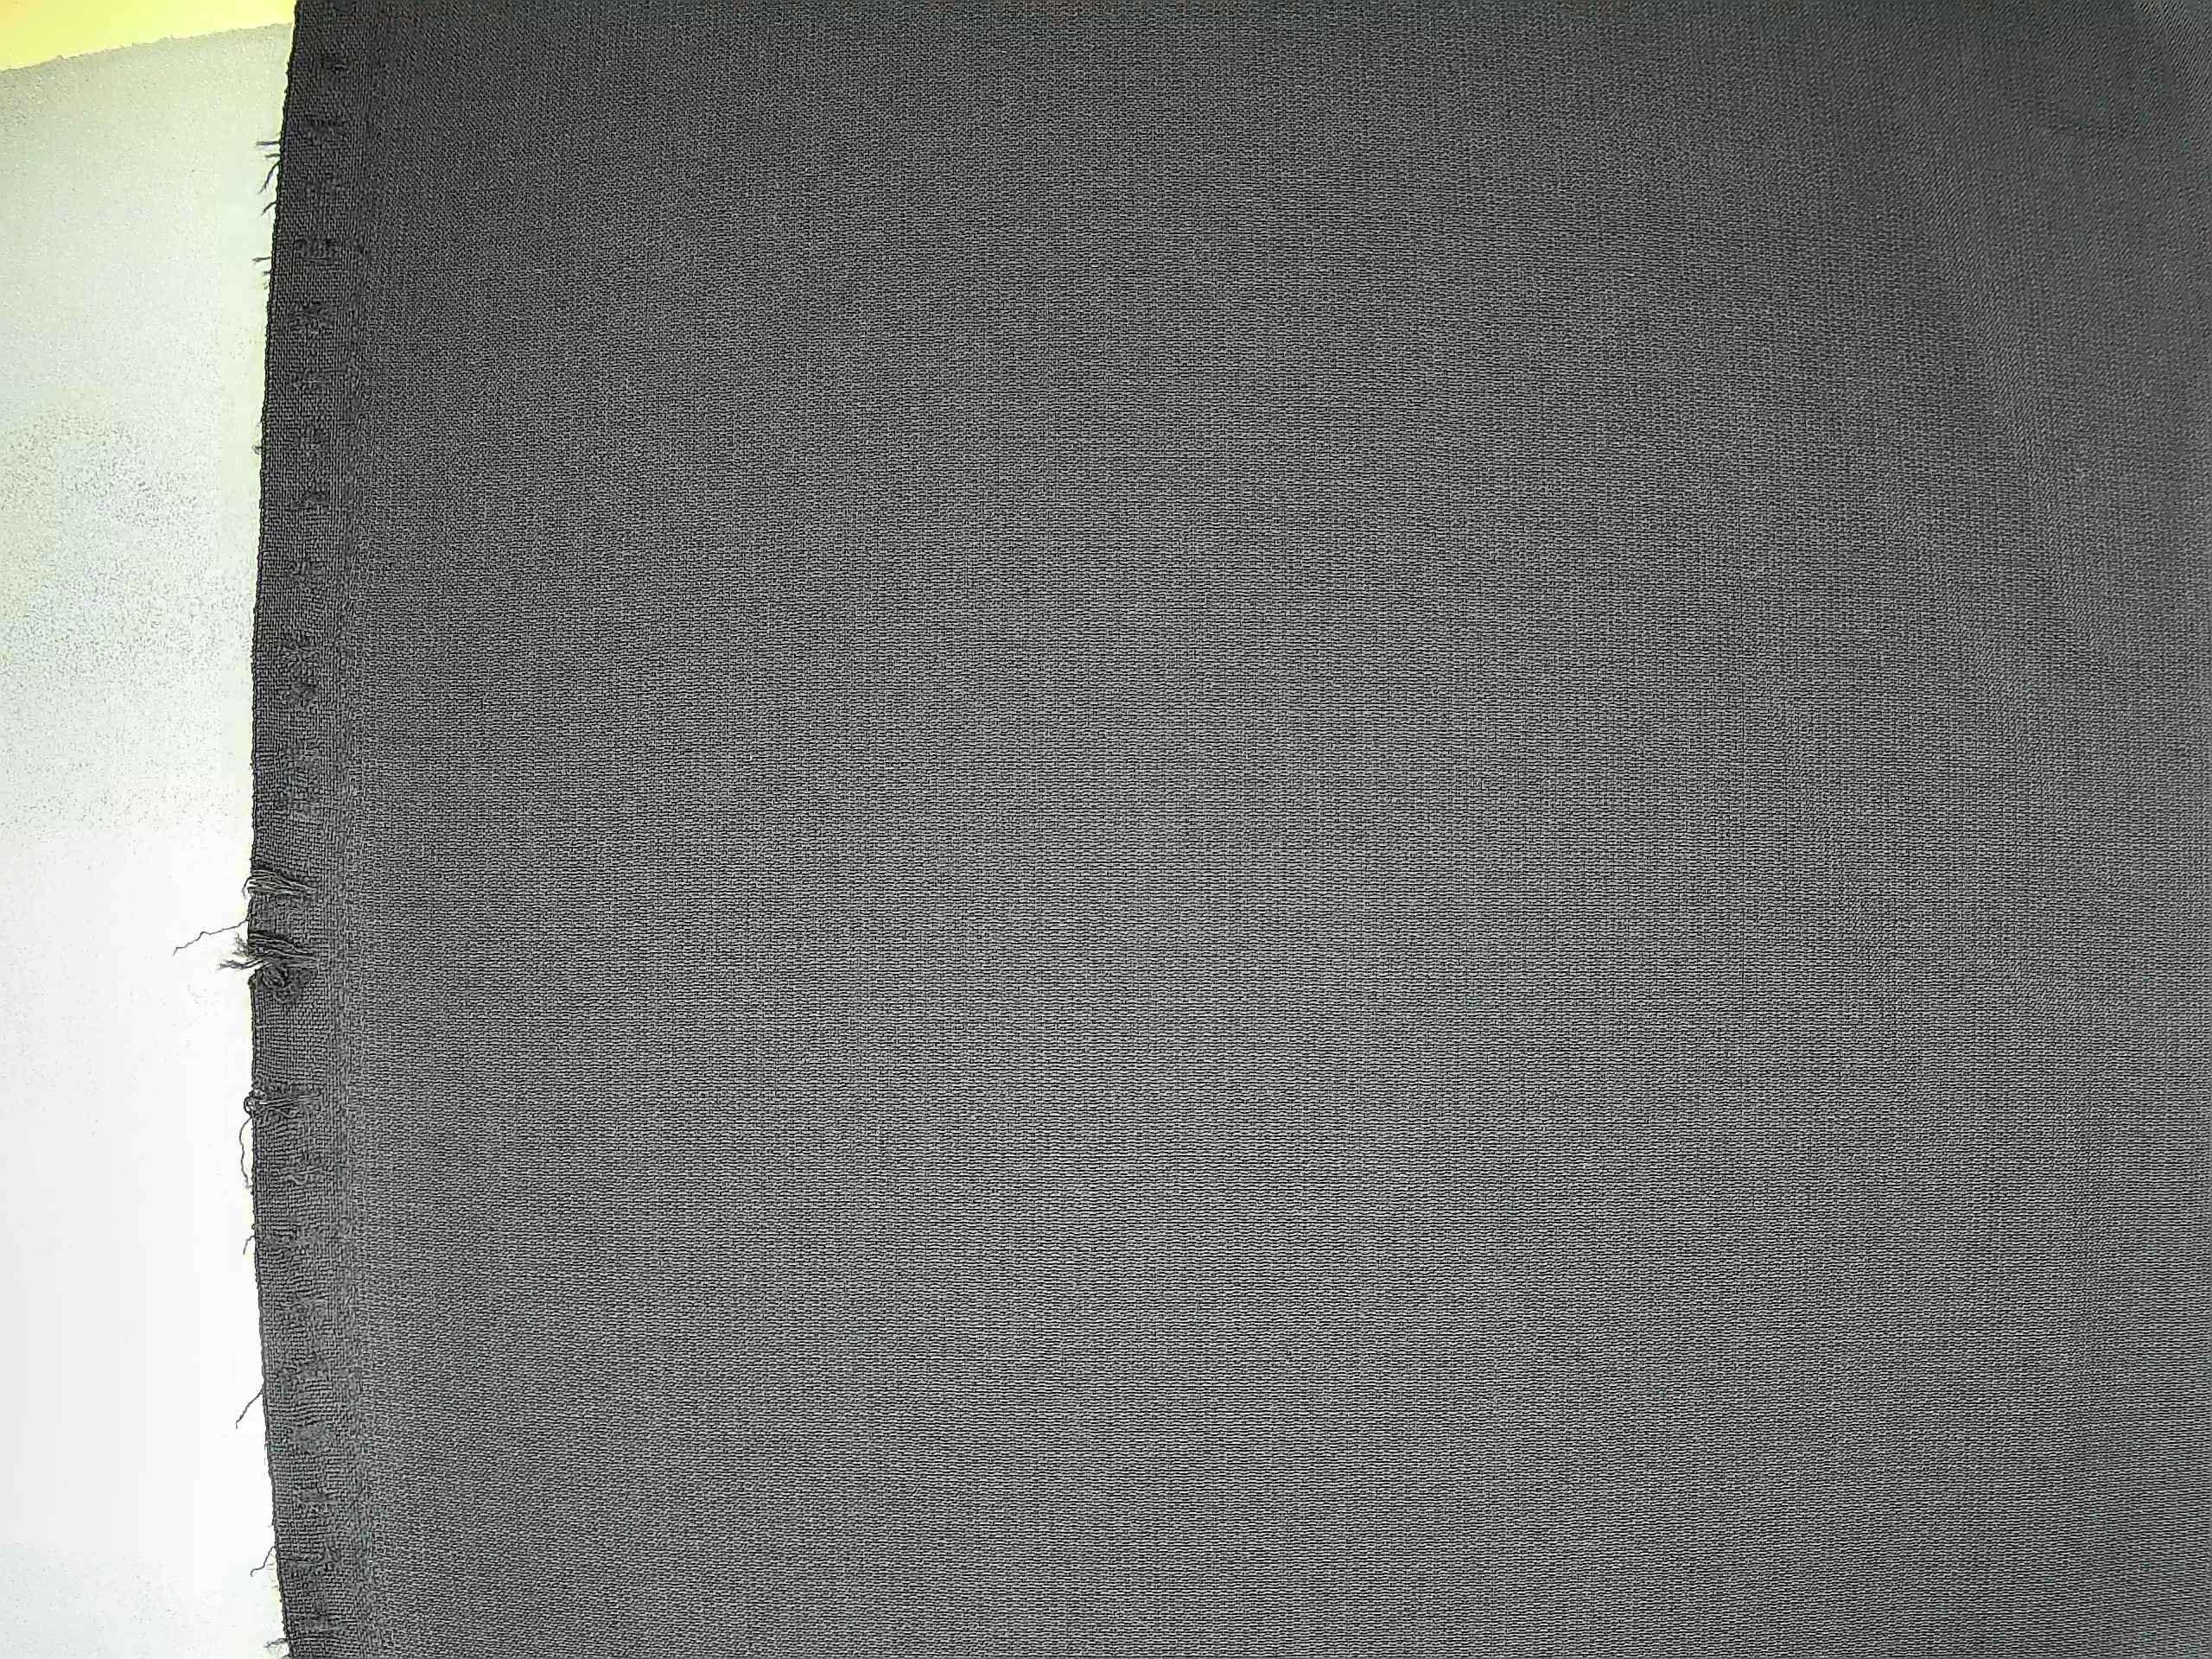puncture-hole: (219, 826, 368, 1188)
